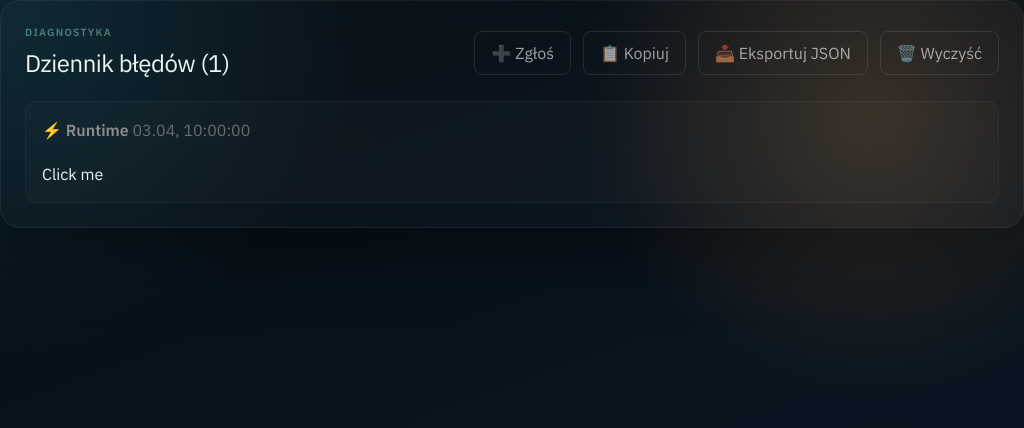
Scenario: ErrorLogSection › expands error details on click
Click the text "Click me" at (73, 174), box [42, 164, 103, 184]
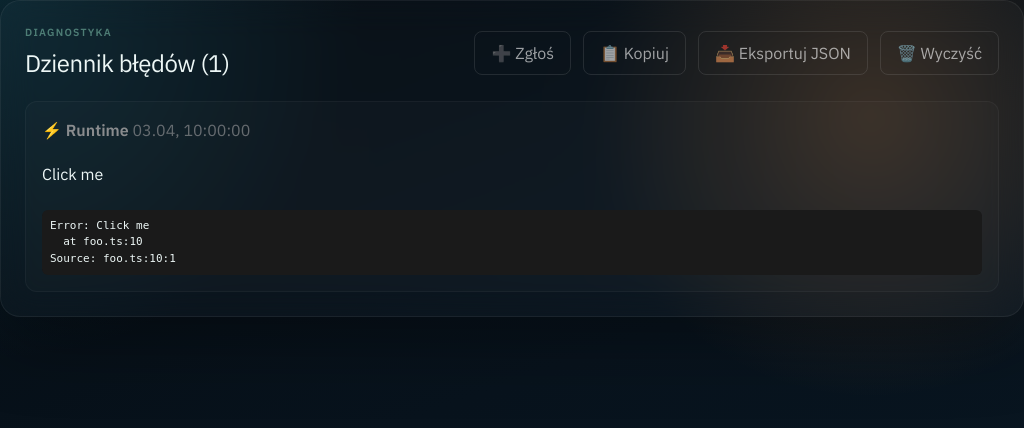
Expected: the text "Error: Click me at foo.ts:10 Source: foo.ts:10:1" is shown, [42, 210, 982, 275]
